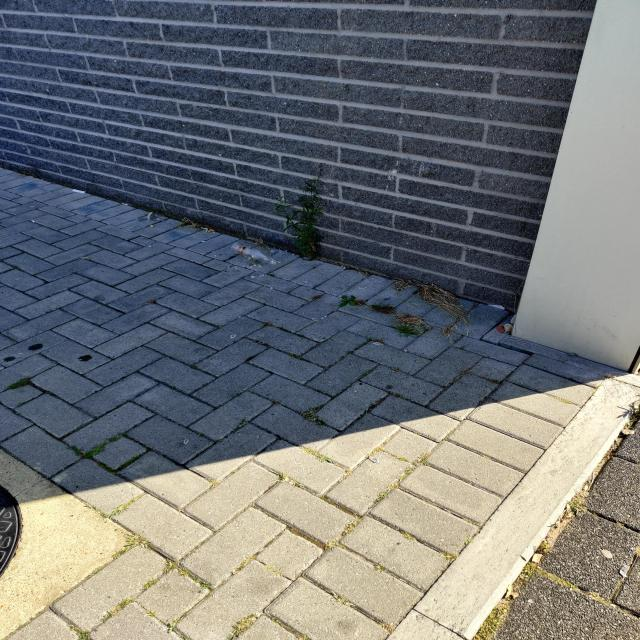litter: (230, 239, 276, 267)
